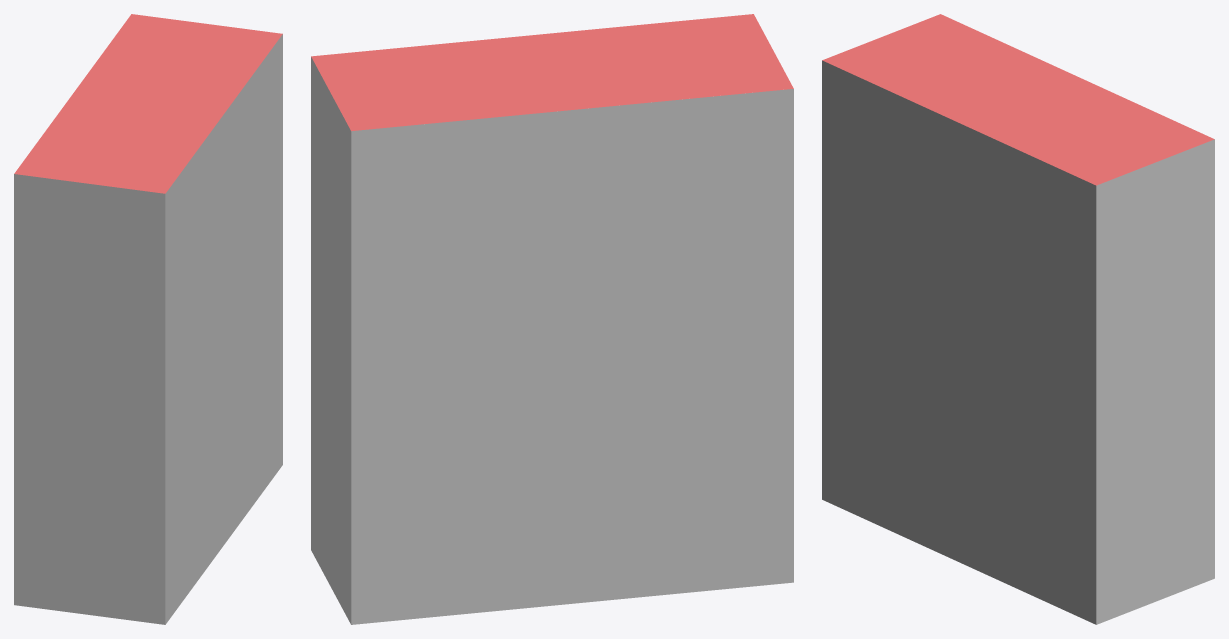
3 views of the same model, side by side, from view 1: azimuth 30°, elevation 25°; view 2: azimuth 150°, elevation 25°; view 3: azimuth 270°, elevation 25° (orthographic). The views are drawn at different scales.
Visible parts, largest first — view 1: Z_UP; view 2: Z_UP; view 3: Z_UP.
Part boxes in pixels (left/top/right/bottom): Z_UP: left=14, top=14, right=282, bottom=624; Z_UP: left=311, top=14, right=793, bottom=624; Z_UP: left=822, top=14, right=1214, bottom=624.
Size of the model in its own units: 10.06 by 12 by 9.73.
